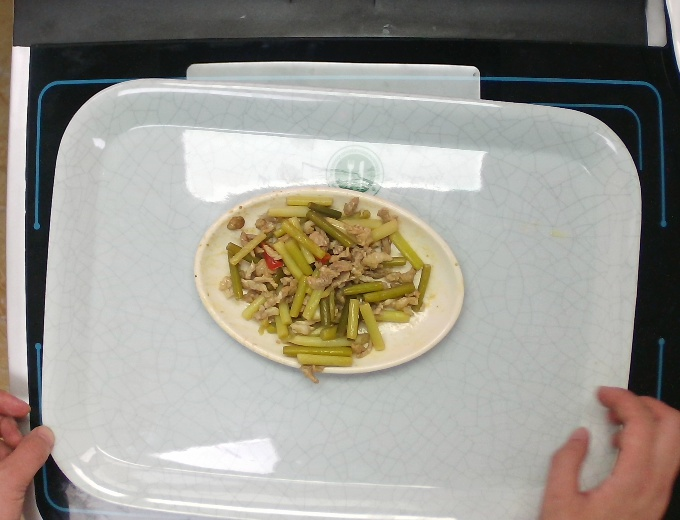JYsf-Tuo_Yuan_Wan: (187, 175, 471, 395)
